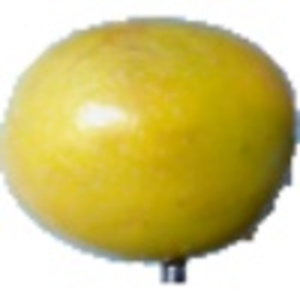maracujá: (1, 15, 300, 285)
